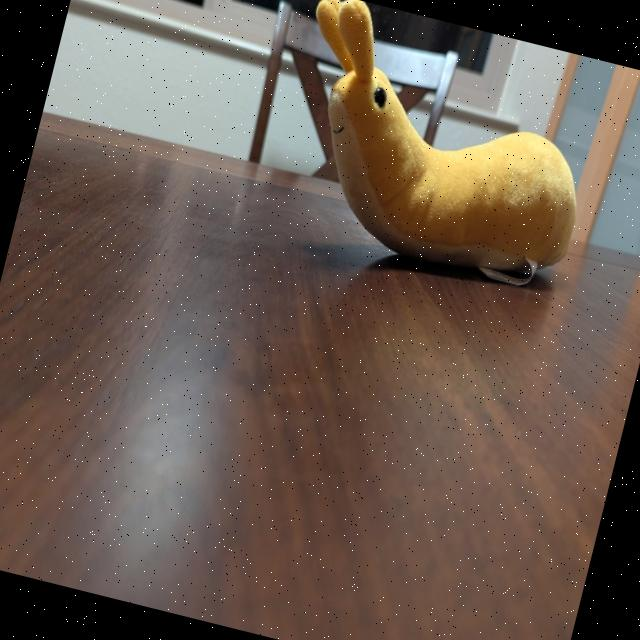banana-slug-toy: (254, 0, 633, 310)
